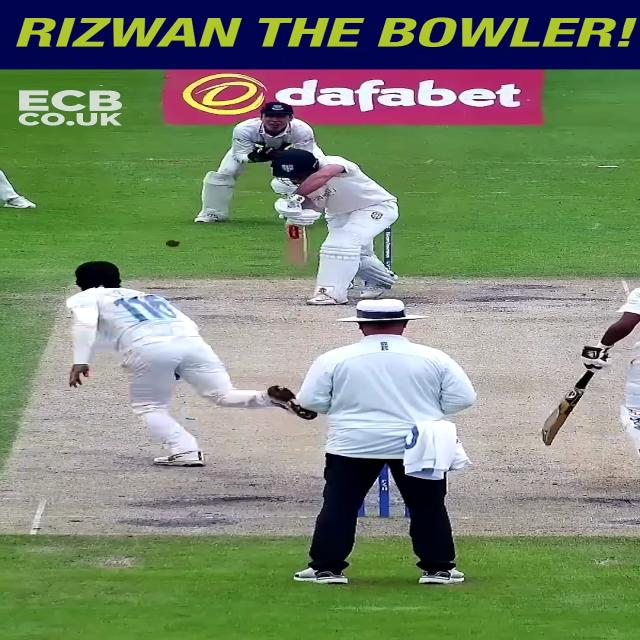ball: (166, 240, 181, 248)
